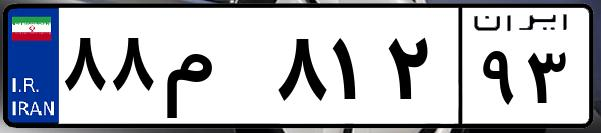1: (330, 28, 385, 110)
2: (385, 28, 445, 110)
3: (525, 38, 570, 115)
8: (270, 28, 330, 110), (57, 26, 110, 100), (110, 28, 158, 98)
9: (475, 38, 525, 113)
م: (158, 20, 270, 120)
